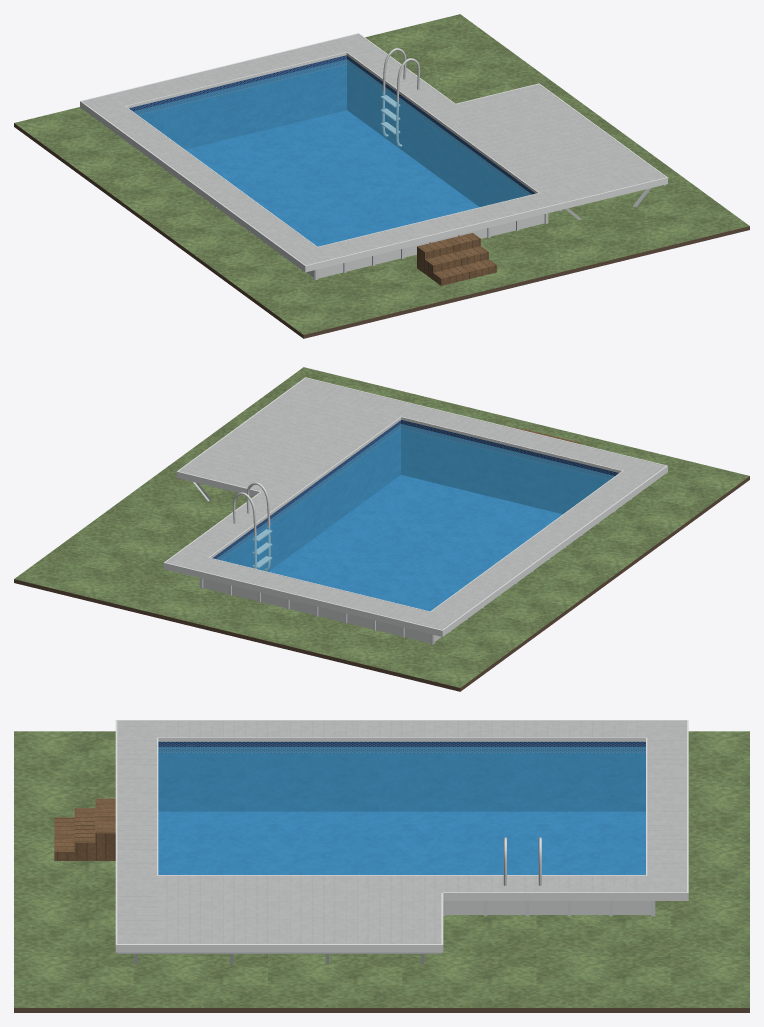
The model's file is kayak-pool-16x24-white-l-rec-nofence.92b5be835c.glb.
The picture shows the model from 3 angles, top to bottom: view 1: azimuth 30°, elevation 25°; view 2: azimuth 150°, elevation 25°; view 3: azimuth 270°, elevation 25°; orthographic projection. The views are drawn at different scales.
Visible parts, largest first — view 1: ground, water, deck, liner_floor, liner_wall, fascia, soil, steps, wall, steel; view 2: ground, water, deck, liner_floor, liner_wall, fascia, soil, wall, steel; view 3: ground, water, deck, liner_wall, liner_floor, fascia, soil, steps, wall, stud.
Part boxes in pixels (<box>): ground: <box>14,14,749,334</box>; water: <box>133,59,531,246</box>; deck: <box>82,34,665,265</box>; liner_floor: <box>186,110,478,246</box>; liner_wall: <box>129,55,535,206</box>; fascia: <box>80,33,667,272</box>; soil: <box>14,123,749,338</box>; steps: <box>417,233,496,285</box>; wall: <box>306,214,544,278</box>; steel: <box>380,48,420,146</box>; ground: <box>14,367,749,687</box>; water: <box>216,424,614,611</box>; deck: <box>166,378,665,629</box>; liner_floor: <box>269,475,562,611</box>; liner_wall: <box>212,420,618,571</box>; fascia: <box>163,377,667,636</box>; soil: <box>14,476,749,691</box>; wall: <box>203,578,441,643</box>; steel: <box>233,482,272,570</box>; ground: <box>14,731,749,1007</box>; water: <box>158,747,645,874</box>; deck: <box>117,721,686,943</box>; liner_wall: <box>158,741,645,811</box>; liner_floor: <box>158,811,645,874</box>; fascia: <box>115,720,688,952</box>; soil: <box>14,1008,749,1012</box>; steps: <box>54,798,115,860</box>; wall: <box>445,901,650,914</box>; stud: <box>117,952,441,964</box>.
Size of the model in its own units: 9.75 by 1.9 by 10.97.
Materials: 12 (5 with a texture image).
